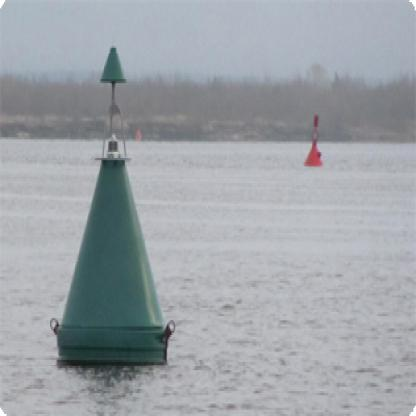Buoy: (49, 152, 177, 368), (301, 138, 325, 171)
